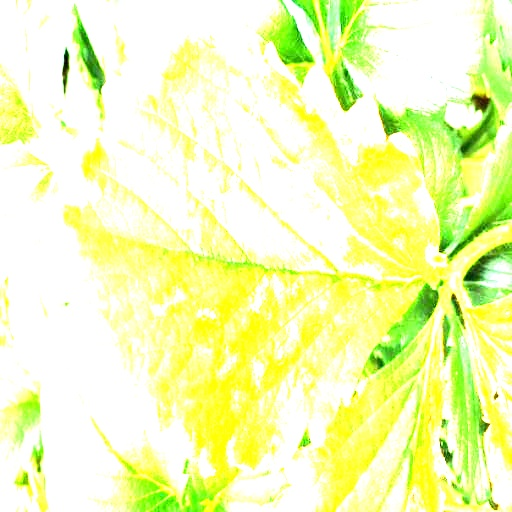Angular Leafspot: (54, 11, 446, 479), (261, 291, 455, 511), (456, 291, 511, 511)
